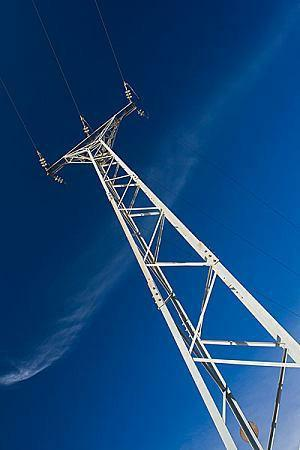power_tower: (39, 79, 300, 450)
